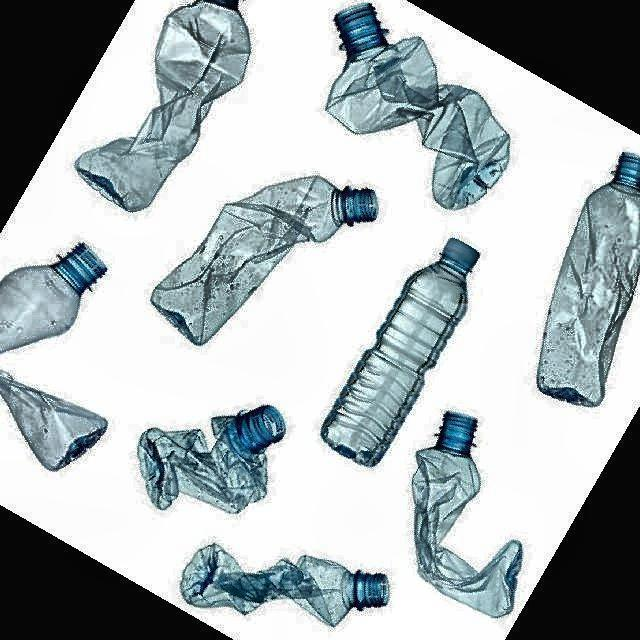plastic: (151, 176, 378, 344), (326, 4, 510, 209), (75, 0, 250, 211), (321, 239, 479, 466), (538, 152, 640, 406), (412, 412, 522, 618), (181, 544, 389, 626), (138, 406, 285, 512)
